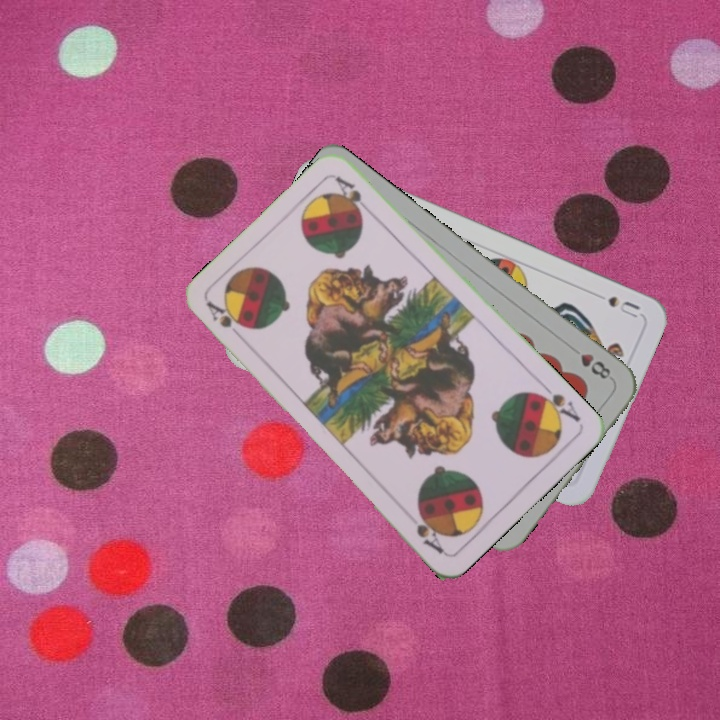H8: (565, 342, 614, 382)
SA: (530, 379, 583, 425), (203, 297, 247, 346)
SU: (604, 291, 643, 321)
